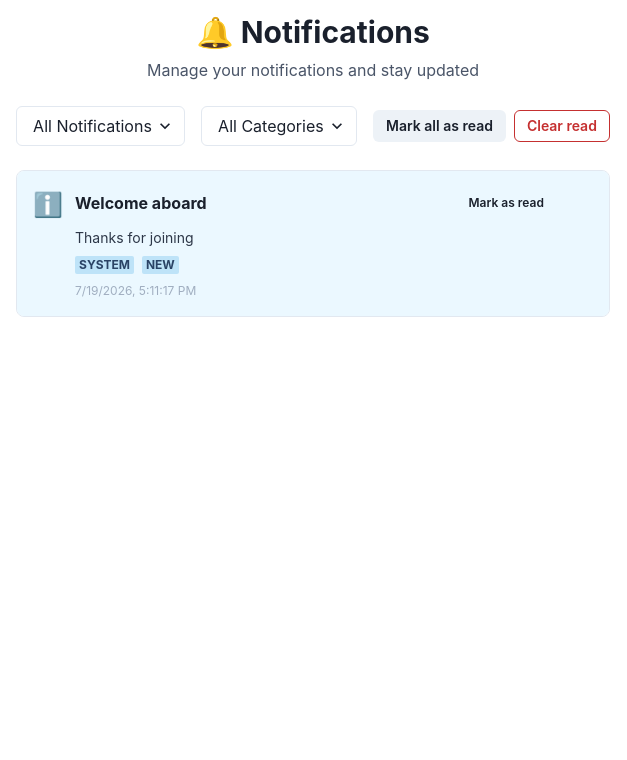
Test: Notifications page › marks a notification as read
Expected: the text "Welcome aboard" is shown, [75,191,207,215]
Click the button "Mark as read". click: (506, 203)
box: [460,191,553,215]
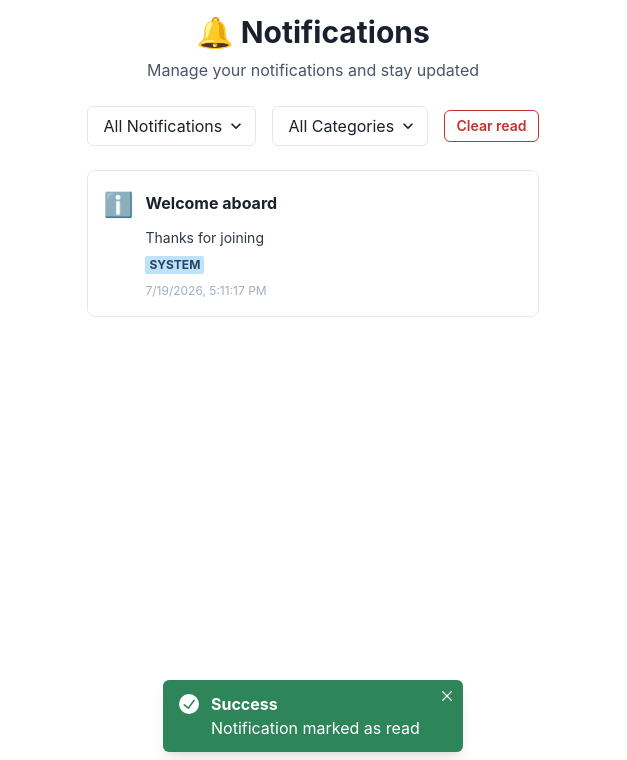
Expected: the text "Notification marked as read" is shown, [211,716,431,740]
